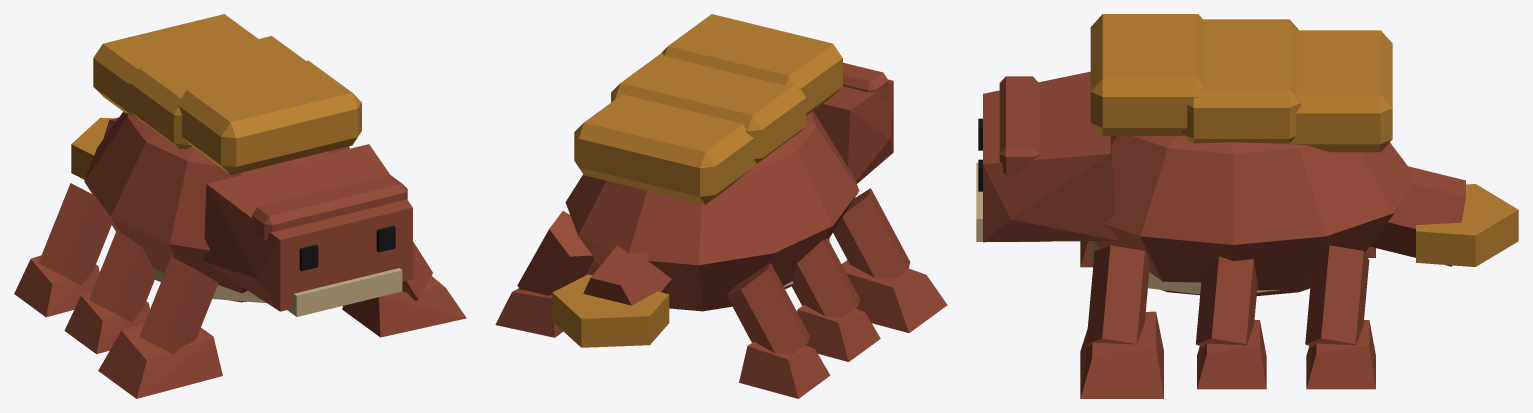
File: briknudge.glb
The picture shows the model from 3 angles, left to right: view 1: azimuth 30°, elevation 25°; view 2: azimuth 150°, elevation 25°; view 3: azimuth 270°, elevation 25°; orthographic projection. The views are drawn at different scales.
Parts seen in each view (by area): view 1: Briknudge; view 2: Briknudge; view 3: Briknudge.
Boxes of the visible parts, box(x1,y1,x2,y2) form: Briknudge: box(14, 14, 466, 398); Briknudge: box(495, 14, 947, 398); Briknudge: box(976, 14, 1518, 398).
Size of the model in its own units: 0.78 by 0.55 by 1.02.
